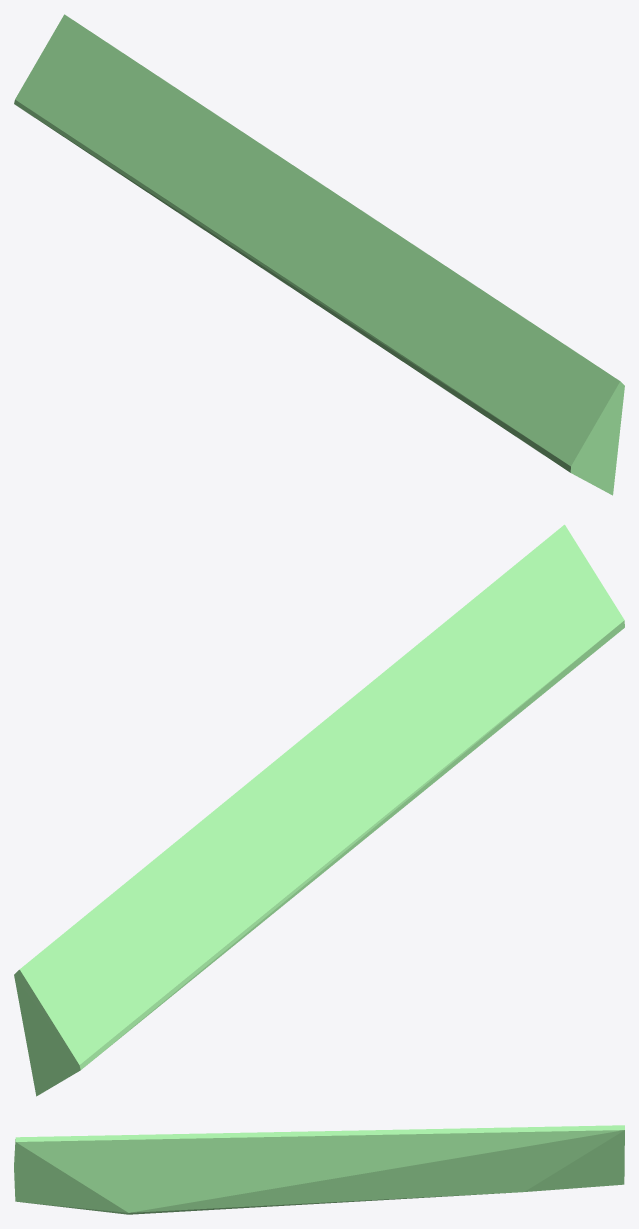
File: dvkr_robot_Lp2_respondable_PSM1_coll_6.dae
The picture shows the model from 3 angles, top to bottom: view 1: azimuth 30°, elevation 25°; view 2: azimuth 150°, elevation 25°; view 3: azimuth 270°, elevation 25°; orthographic projection. The views are drawn at different scales.
Visible parts, largest first — view 1: Node_0000023514CD6980; view 2: Node_0000023514CD6980; view 3: Node_0000023514CD6980.
Boxes of the visible parts, left/top/right/bottom form: Node_0000023514CD6980: left=14, top=14, right=624, bottom=495; Node_0000023514CD6980: left=14, top=524, right=624, bottom=1096; Node_0000023514CD6980: left=14, top=1125, right=624, bottom=1214.
Size of the model in its own units: 0.0369 by 0.0446 by 0.3246.
